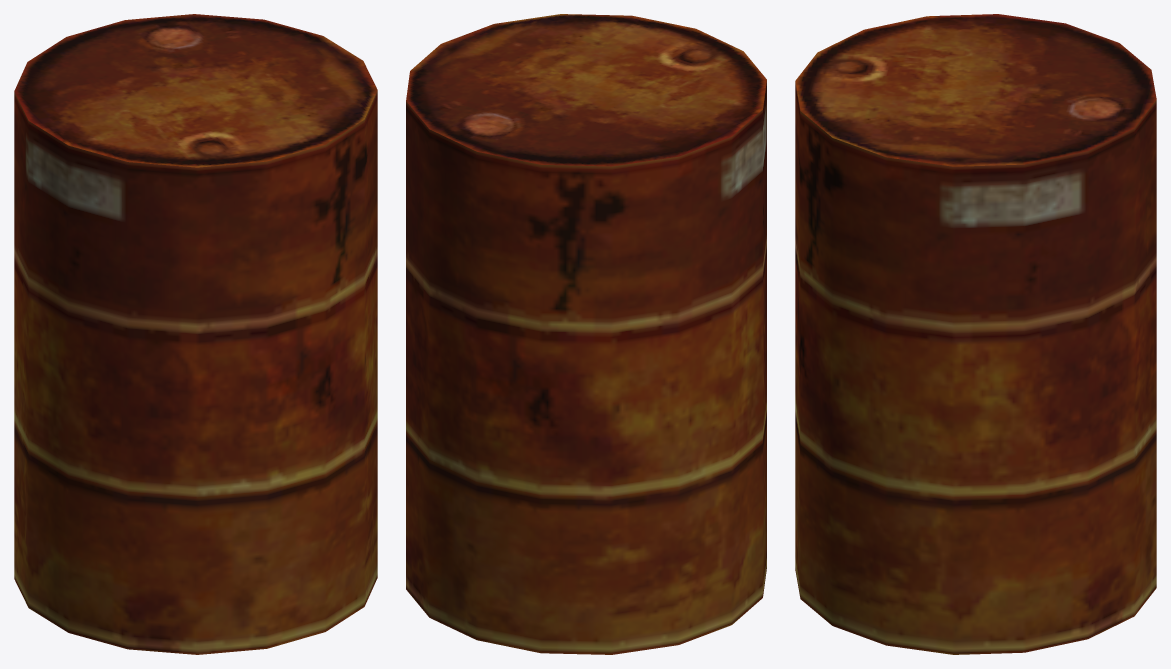
File: od_single_upright_red.fbx
The picture shows the model from 3 angles, left to right: view 1: azimuth 30°, elevation 25°; view 2: azimuth 150°, elevation 25°; view 3: azimuth 270°, elevation 25°; orthographic projection.
Parts seen in each view (by area): view 1: mesh_0; view 2: mesh_0; view 3: mesh_0.
Boxes of the visible parts, <box> form: mesh_0: <box>14,14,377,654</box>; mesh_0: <box>406,14,766,654</box>; mesh_0: <box>795,14,1156,654</box>.
Size of the model in its own units: 59.25 by 88.26 by 59.25.
1 material, 1 textured.
